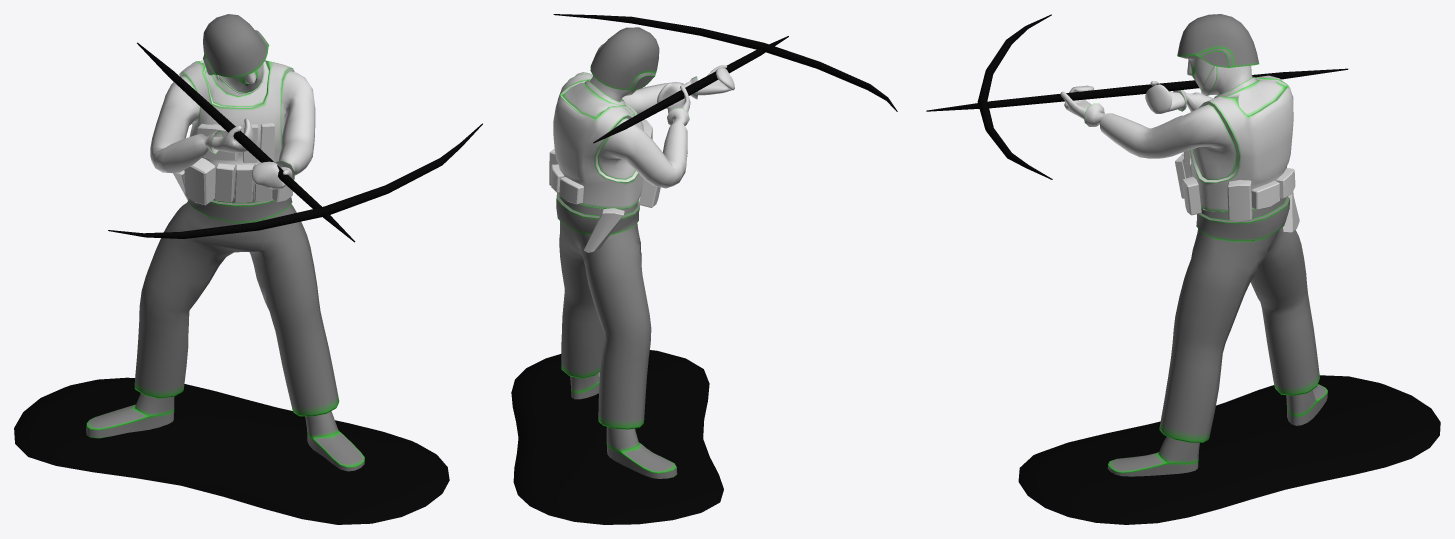
Rendered from Ranged_Enemy_01_MSH.fbx.
3 views of the same model, side by side, from view 1: azimuth 30°, elevation 25°; view 2: azimuth 150°, elevation 25°; view 3: azimuth 270°, elevation 25° (orthographic). The views are drawn at different scales.
Visible parts, largest first — view 1: Ranged_Enemy_01; view 2: Ranged_Enemy_01; view 3: Ranged_Enemy_01.
Boxes of the visible parts, box(x1,y1,x2,y2) form: Ranged_Enemy_01: box(14, 14, 482, 524); Ranged_Enemy_01: box(511, 14, 897, 524); Ranged_Enemy_01: box(926, 14, 1440, 524).
Bounding box in the file's own units: 169 × 190 × 205.
